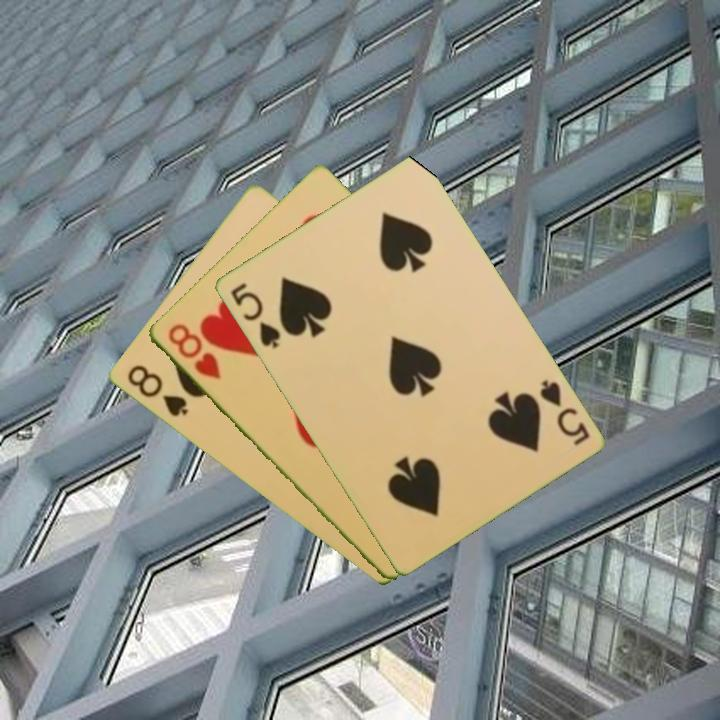5s: (226, 278, 283, 352), (535, 376, 593, 448)
8h: (164, 320, 224, 383)
8s: (123, 361, 191, 420)
